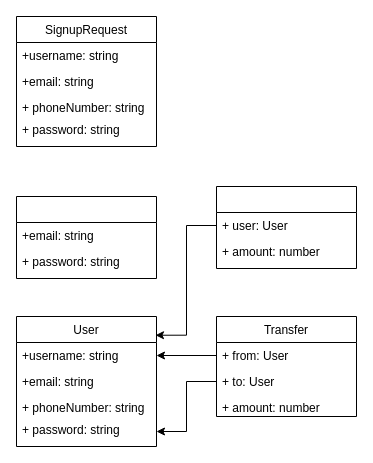
Image size: 373x463. Some labels were removed from this diagram. Here are the shapes that lost their labels. From the top down, the box of each, then its label:
(16, 196, 156, 278): LoginRequest
(216, 186, 356, 268): TopupRequest
